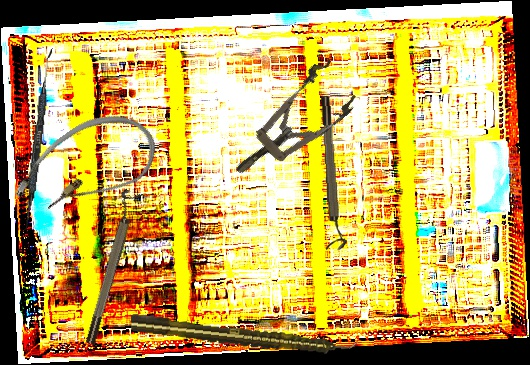Cannula: (2, 94, 169, 242)
Fixation Ring: (76, 188, 144, 346), (317, 95, 348, 251)
Handpiece: (129, 311, 358, 361)
Spatula Surgical: (23, 46, 53, 232)
Speculum: (217, 54, 365, 194)
